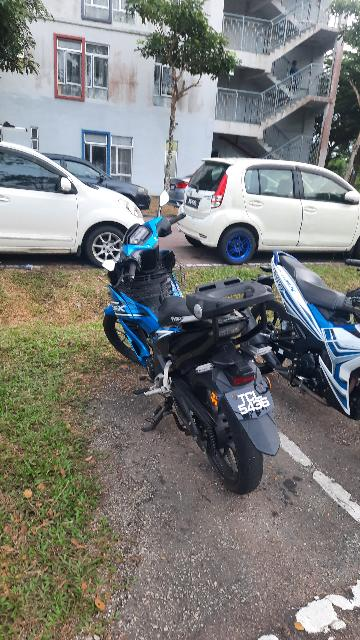License_Plate: (225, 375, 280, 423)
car: (1, 136, 151, 275), (180, 155, 360, 269)
motorcycle: (99, 186, 275, 498), (252, 249, 360, 430)
